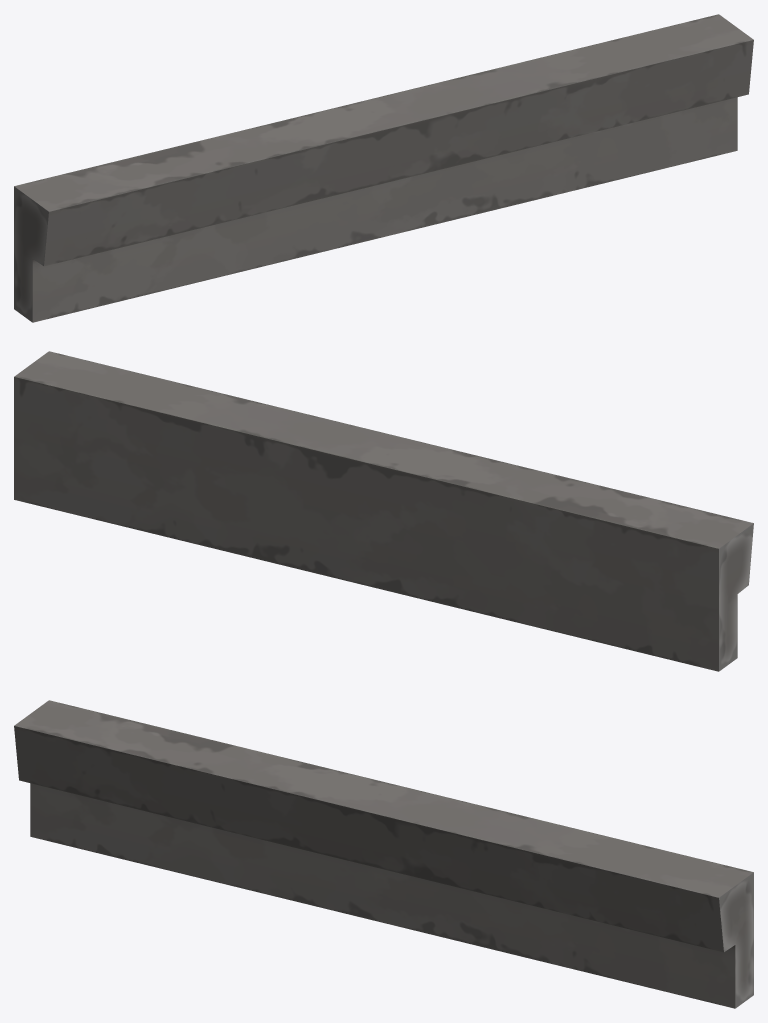
File: PropTrimFacade02_4.FBX
The picture shows the model from 3 angles, top to bottom: view 1: azimuth 30°, elevation 25°; view 2: azimuth 150°, elevation 25°; view 3: azimuth 330°, elevation 25°; orthographic projection.
Visible parts, largest first — view 1: PropTrimFacade02_4; view 2: PropTrimFacade02_4; view 3: PropTrimFacade02_4.
Boxes of the visible parts, left/top/right/bottom form: PropTrimFacade02_4: left=14, top=14, right=753, bottom=322; PropTrimFacade02_4: left=14, top=351, right=753, bottom=671; PropTrimFacade02_4: left=14, top=700, right=753, bottom=1008.
Size of what is drawn, in the model's own units: 4.5 by 0.75 by 0.3875.
